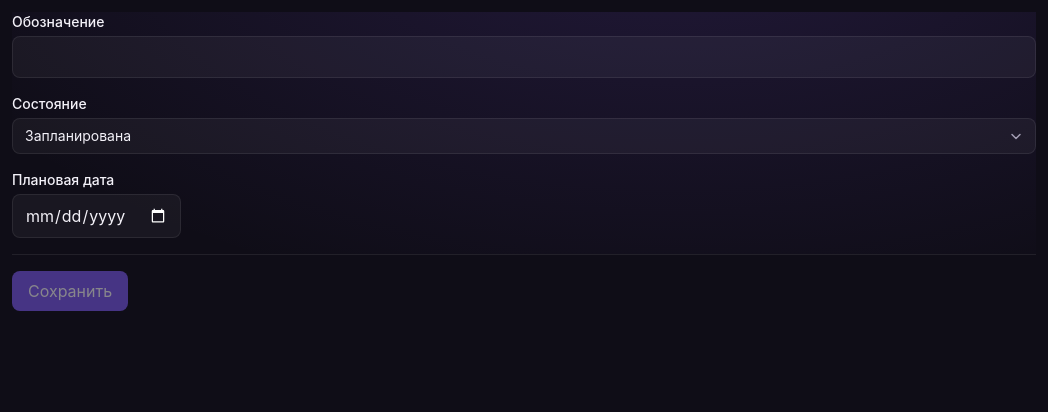
Scenario: VersionForm › поле даты релиза появляется только у выпущенной
Check: the field labelled "Дата релиза" is not shown
Select "Выпущена" in the dropdown labelled "Состояние" at coordinates (524, 136), box [12, 118, 1036, 154]
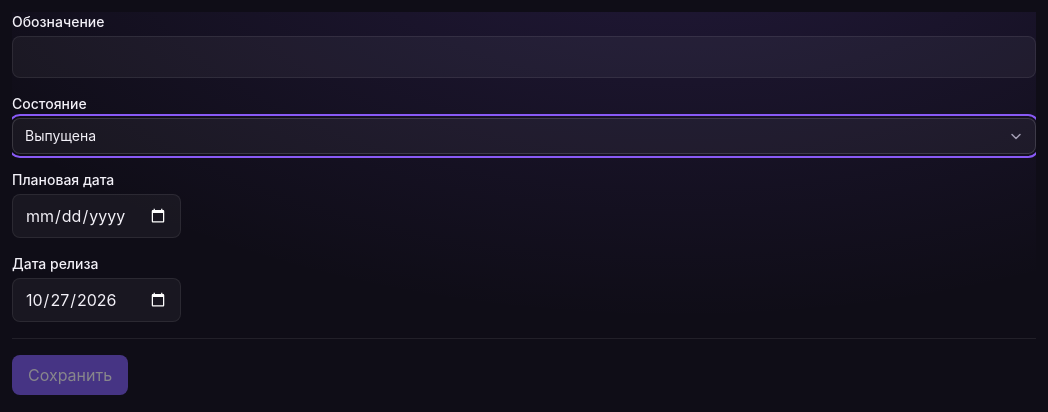
Check: the date field labelled "Дата релиза" is shown, box [12, 278, 181, 322]
